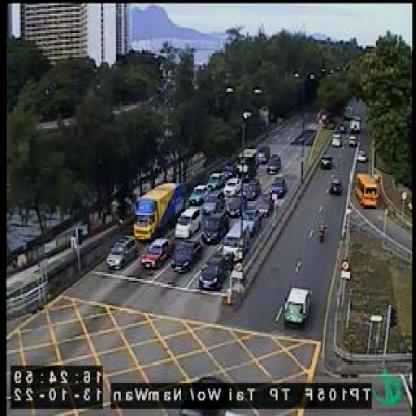Bus: (356, 171, 379, 209)
Car: (199, 254, 234, 291), (105, 236, 139, 272), (284, 286, 312, 326), (221, 223, 248, 262), (140, 238, 172, 270), (171, 241, 202, 273), (173, 205, 201, 238), (201, 213, 228, 244), (241, 207, 260, 237), (188, 183, 210, 205), (227, 196, 248, 218), (242, 178, 260, 202), (205, 170, 226, 190), (257, 194, 274, 218), (223, 176, 241, 197), (270, 178, 287, 200), (266, 154, 281, 176), (329, 174, 342, 194), (257, 147, 271, 165), (321, 152, 332, 168), (357, 148, 367, 162), (332, 134, 341, 146), (349, 135, 357, 146)
Truck: (134, 182, 186, 240), (236, 148, 259, 179)
